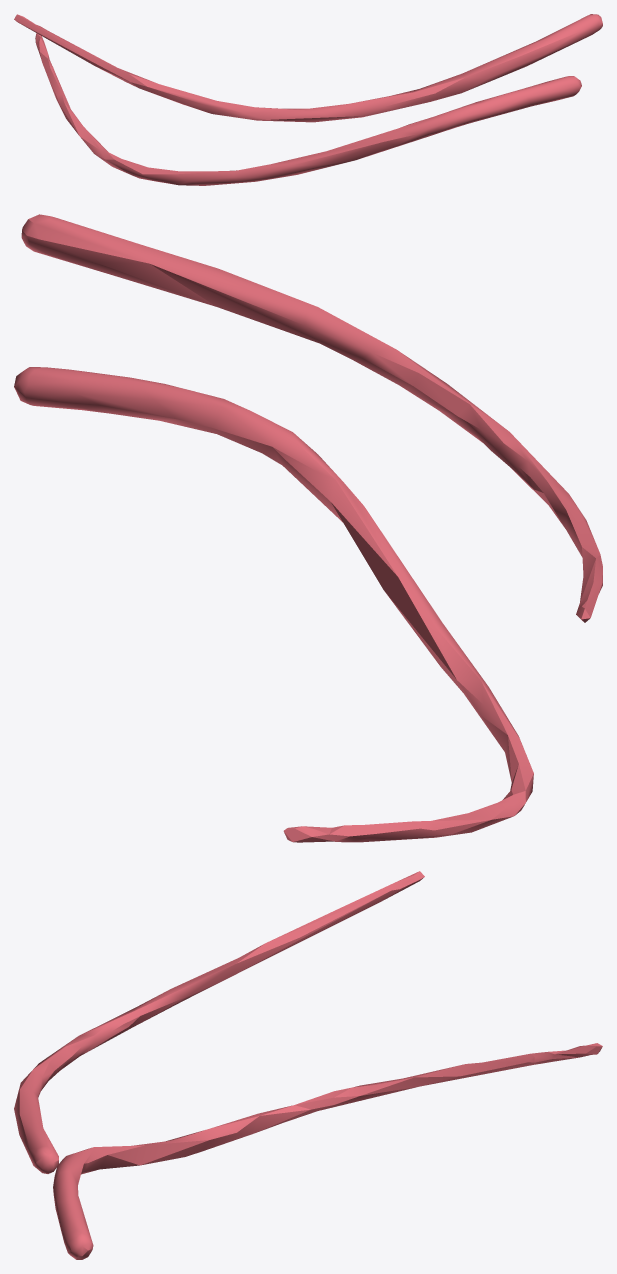
File: fma50568_fj5108.glb
3 views of the same model, one above another, from view 1: azimuth 30°, elevation 25°; view 2: azimuth 150°, elevation 25°; view 3: azimuth 270°, elevation 25° (orthographic). The views are drawn at different scales.
Parts seen in each view (by area): view 1: FMA50568_FJ5108; view 2: FMA50568_FJ5108; view 3: FMA50568_FJ5108.
Boxes of the visible parts, <box> form: FMA50568_FJ5108: <box>14,14,602,185</box>; FMA50568_FJ5108: <box>14,214,602,842</box>; FMA50568_FJ5108: <box>14,871,602,1259</box>.
Size of the model in its own units: 0.0235 by 0.00758 by 0.0206.
